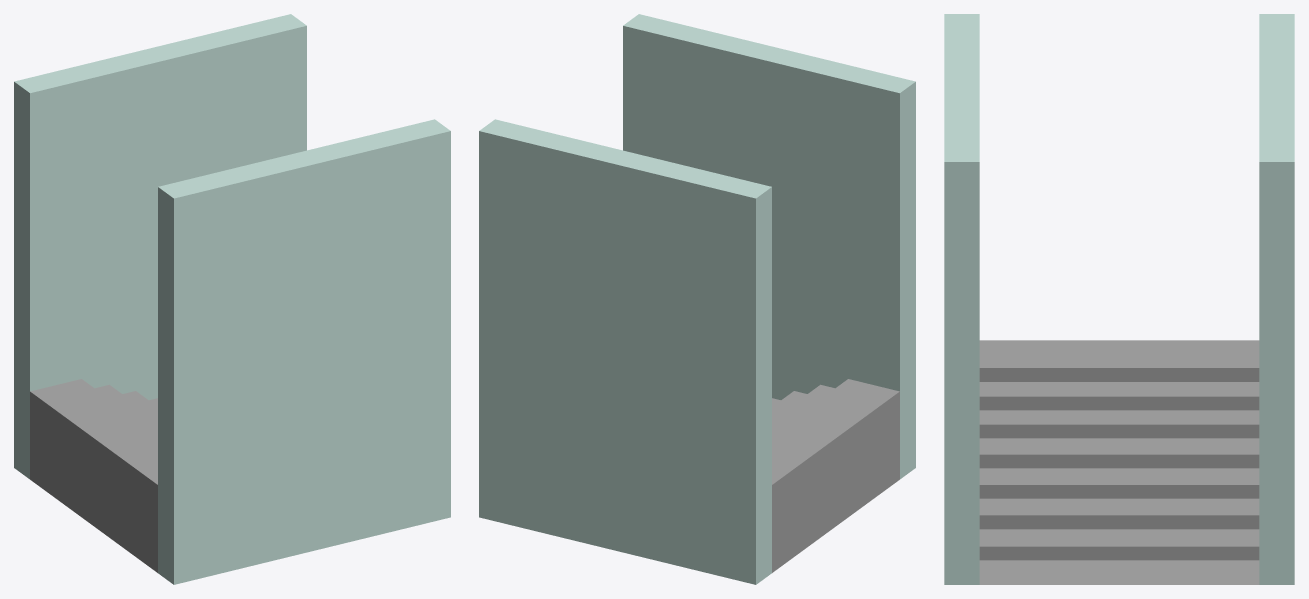
Rendered from Stairs with walls tile(withPlane).fbx.
3 renders of one model, left to right at view 1: azimuth 30°, elevation 25°; view 2: azimuth 150°, elevation 25°; view 3: azimuth 270°, elevation 25°, orthographic. The views are drawn at different scales.
Parts seen in each view (by area): view 1: polySurface41; view 2: polySurface41; view 3: polySurface41.
Part boxes in pixels (<box>): polySurface41: <box>14,14,450,584</box>; polySurface41: <box>479,14,915,584</box>; polySurface41: <box>944,14,1294,584</box>.
Size of the model in its own units: 3 by 4 by 3.
